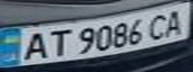0: (93, 21, 115, 52)
6: (127, 16, 151, 46)
8: (112, 19, 133, 48)
9: (75, 24, 96, 55)
A: (15, 29, 51, 62), (160, 6, 190, 37)
C: (145, 10, 175, 40)
T: (42, 26, 72, 59)
